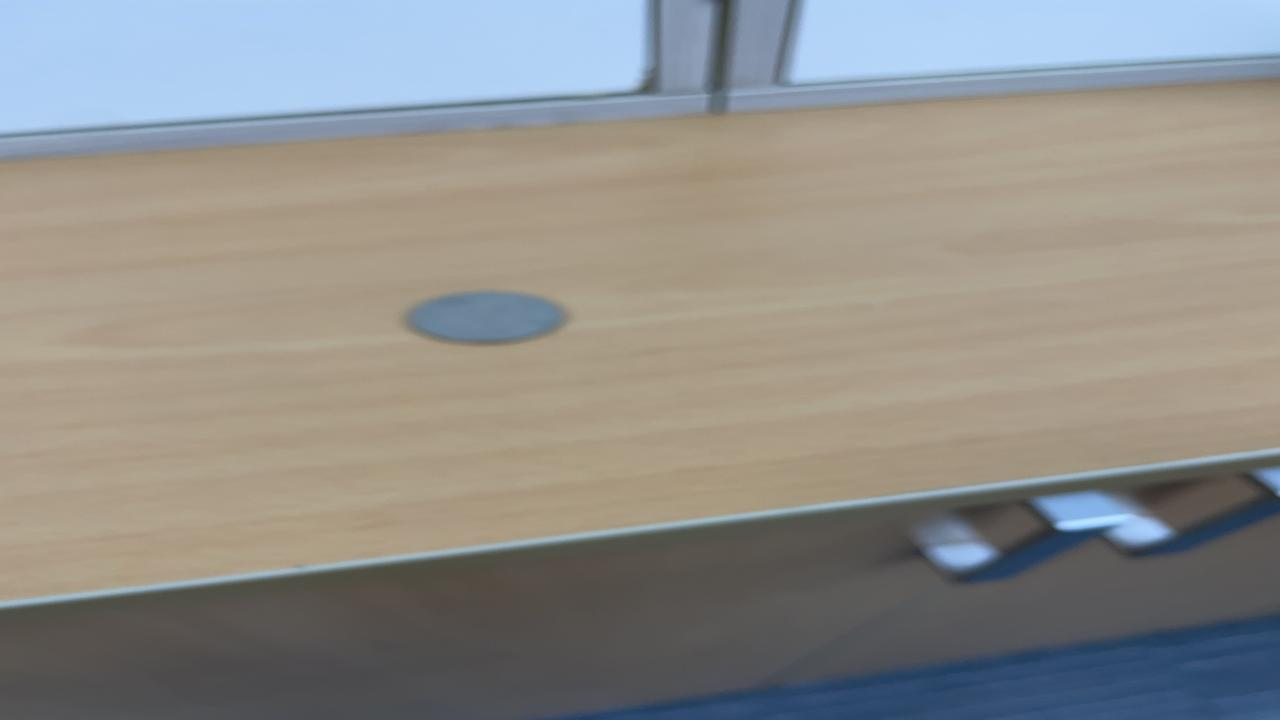coin: (395, 288, 575, 348)
